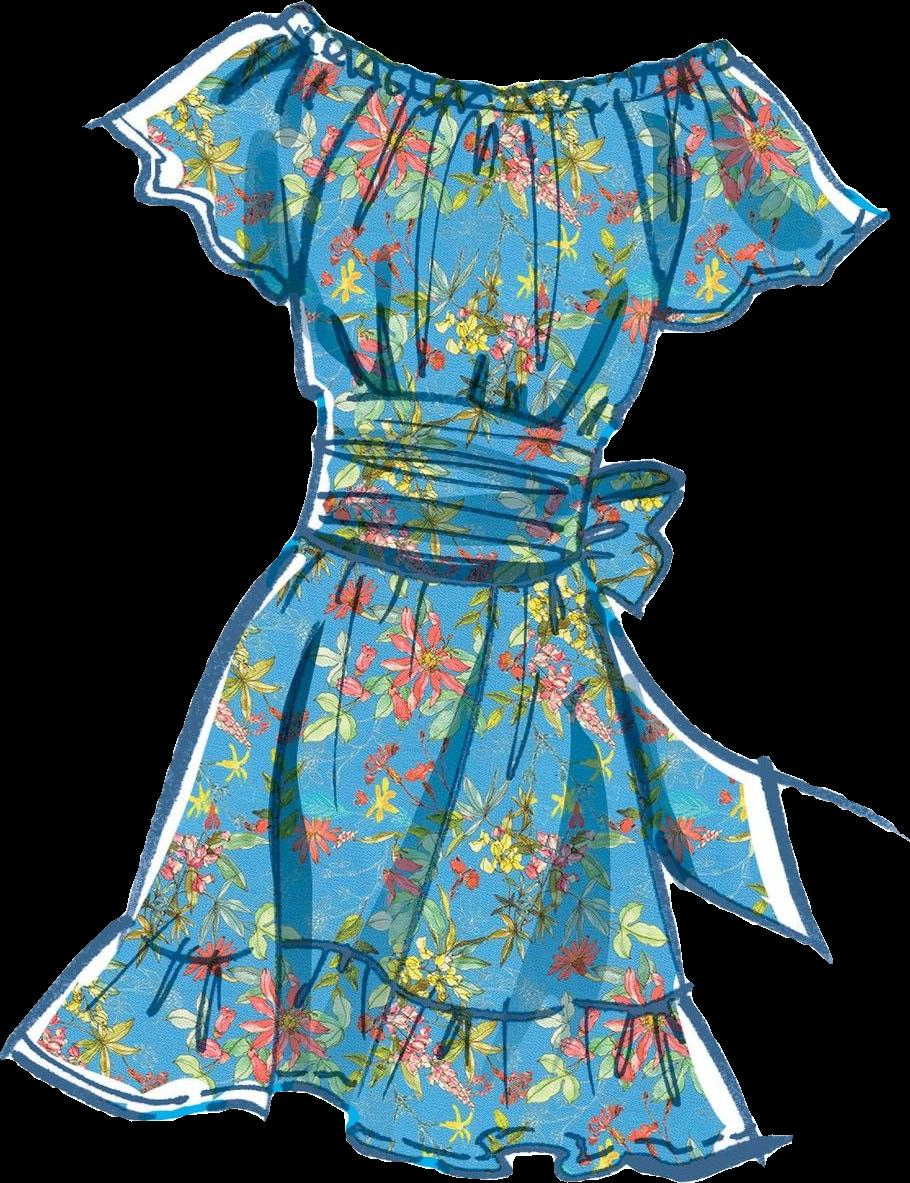Bodice: (288, 62, 665, 588)
Hemline: (0, 1048, 771, 1182)
Neckline: (312, 383, 605, 463), (387, 57, 621, 92)
Skirt: (0, 533, 771, 1181)
Sleeve: (84, 1, 393, 308), (613, 38, 889, 333)
Sleeveline: (276, 0, 398, 307), (608, 35, 731, 337)
Waistline: (292, 525, 593, 597)
